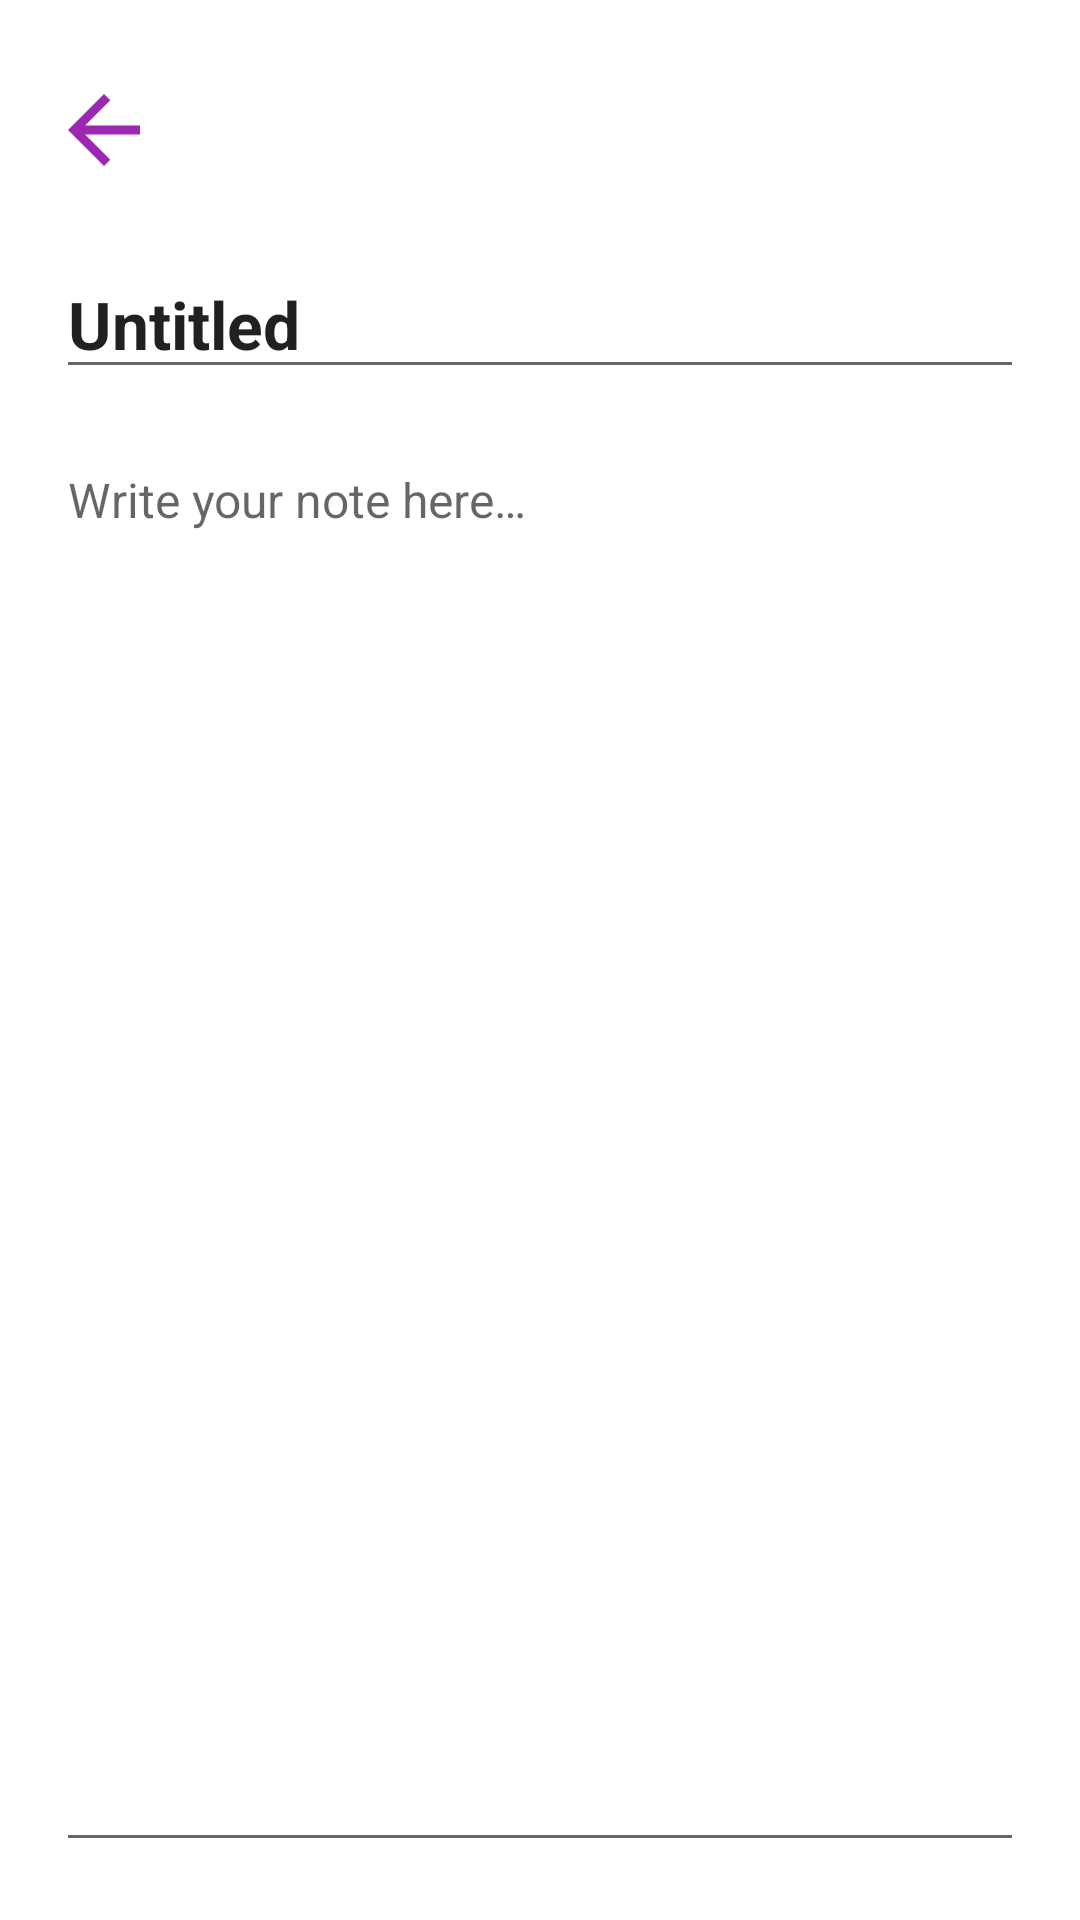

Named icons in this screenshot (1080 x 1920) and their centers, point (x, y):
Go back: point (104, 130)
